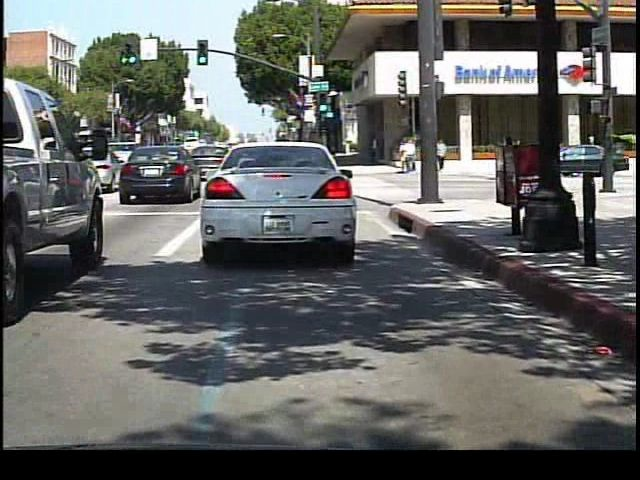person: (498, 134, 519, 175), (403, 135, 420, 176), (436, 135, 451, 171)
